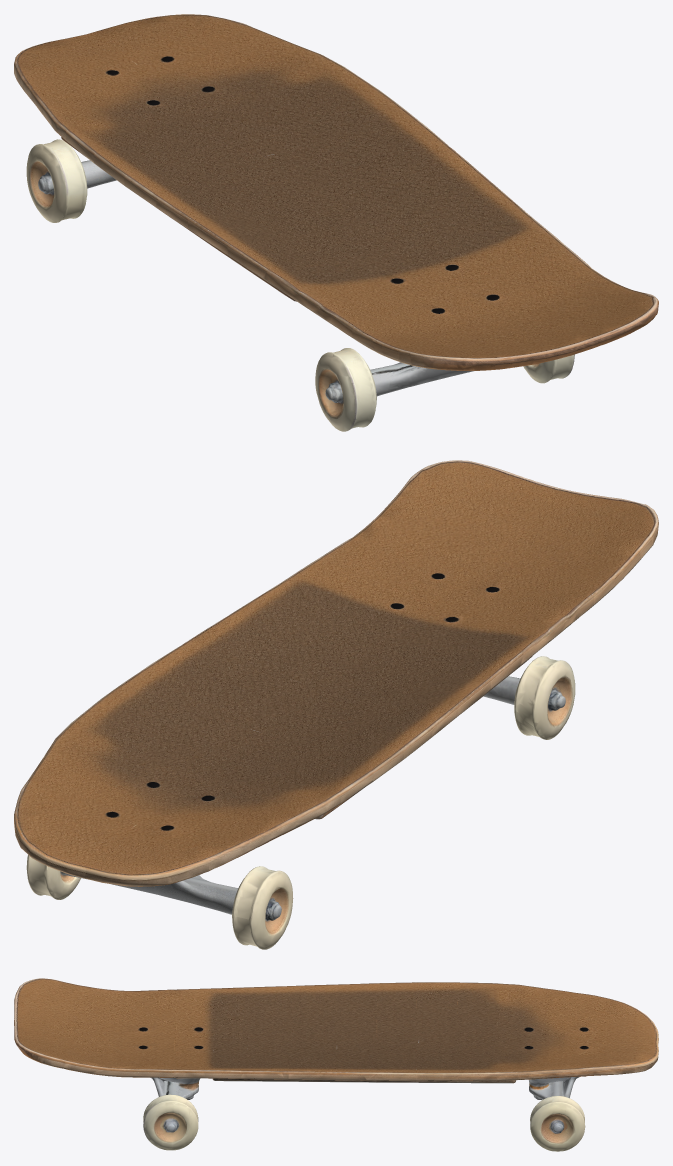
The model's file is skateboard.glb.
3 views of the same model, one above another, from view 1: azimuth 30°, elevation 25°; view 2: azimuth 150°, elevation 25°; view 3: azimuth 270°, elevation 25° (orthographic). The views are drawn at different scales.
Visible parts, largest first — view 1: mesh_node; view 2: mesh_node; view 3: mesh_node.
Boxes of the visible parts, x1,y1,x2,y2 form: mesh_node: [14, 14, 658, 431]; mesh_node: [14, 460, 658, 949]; mesh_node: [14, 978, 658, 1151].
Size of the model in its own units: 0.2783 by 0.1401 by 0.82.
Materials: 1 (1 with a texture image).
